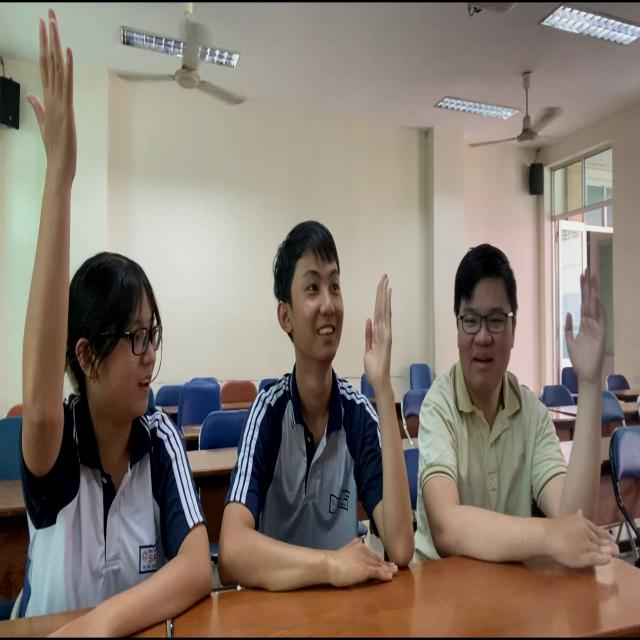raise_hand: (1, 1, 205, 640), (235, 215, 408, 602), (422, 241, 610, 562)
